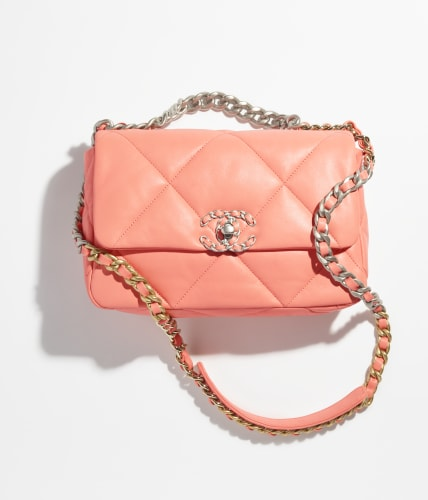channel: (83, 98, 400, 343), (308, 180, 376, 306), (171, 195, 273, 262)
